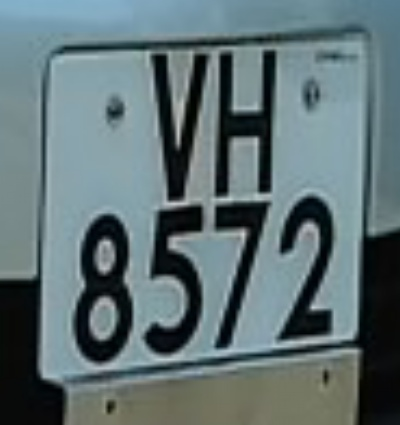2: (272, 188, 346, 348)
5: (139, 193, 216, 362)
7: (207, 193, 275, 359)
8: (64, 201, 142, 372)
H: (208, 36, 287, 208)
V: (129, 45, 216, 207)
